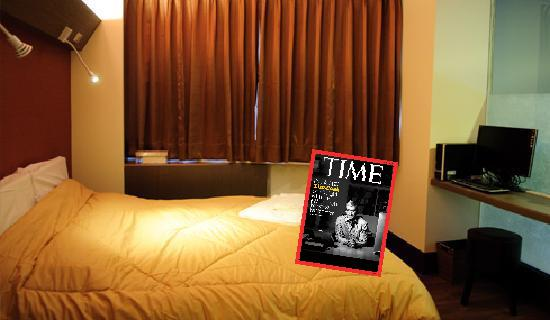times: (294, 147, 398, 276)
